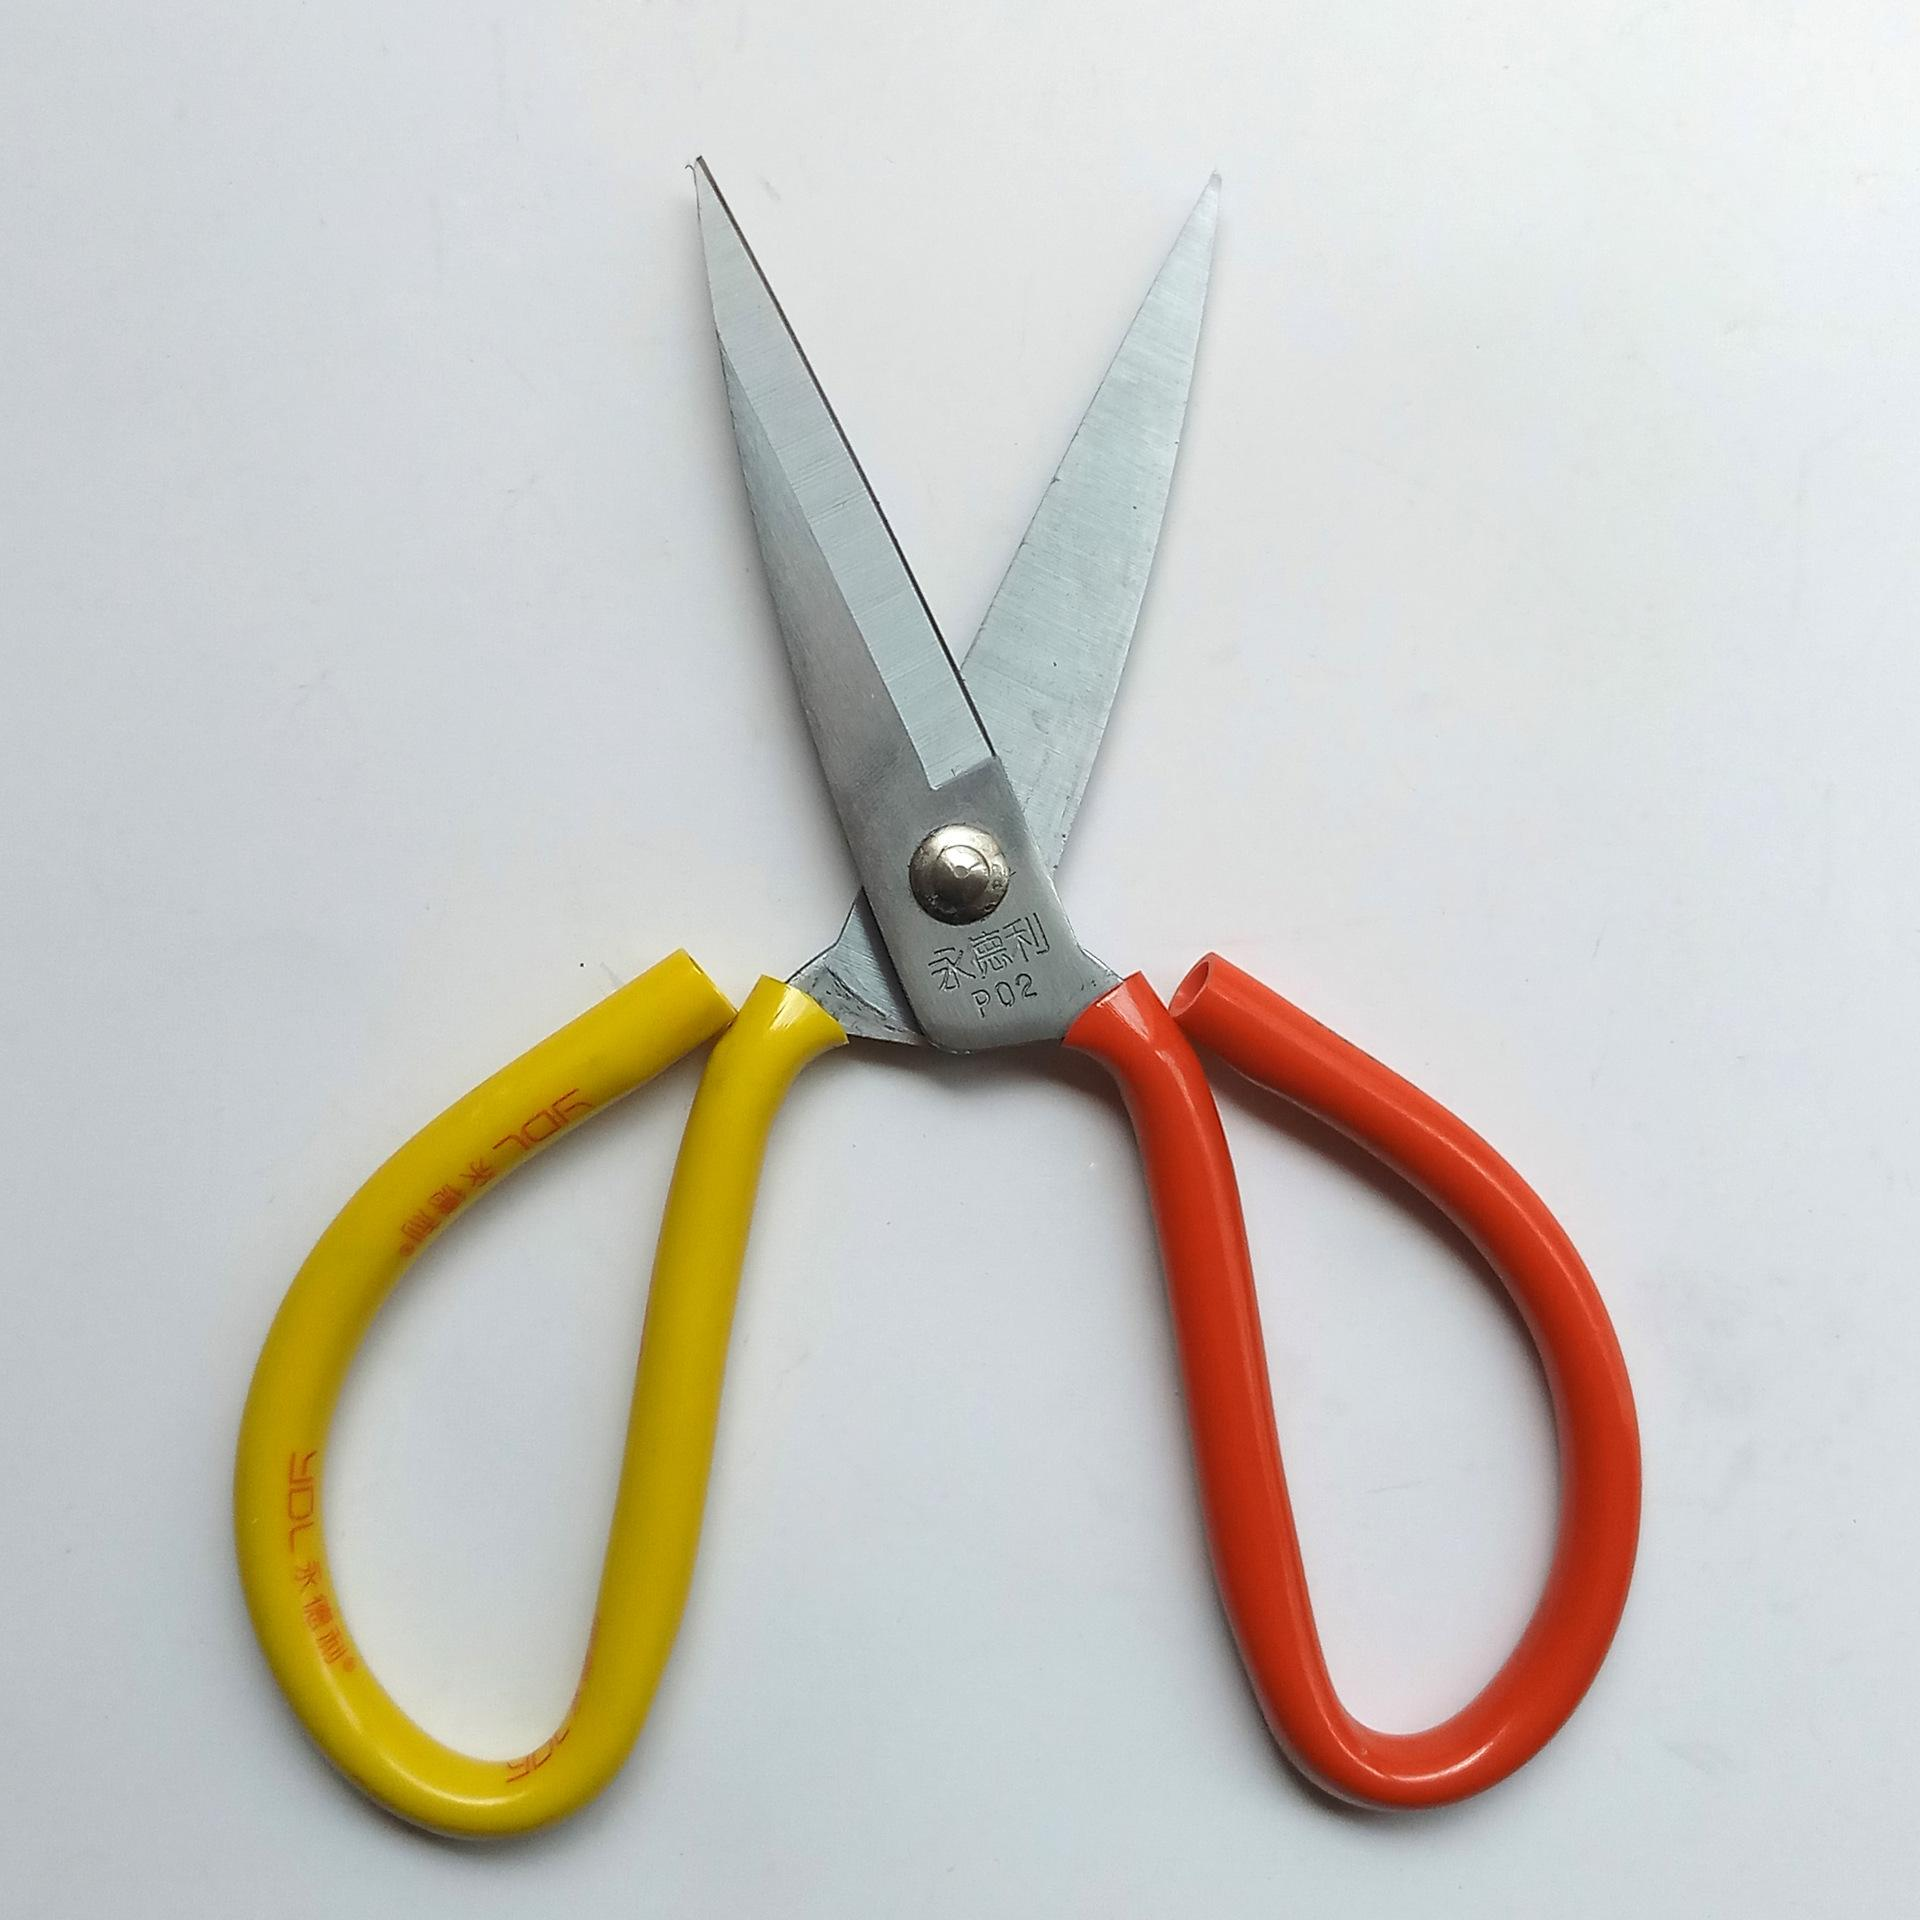scissor: (230, 145, 1649, 1863)
